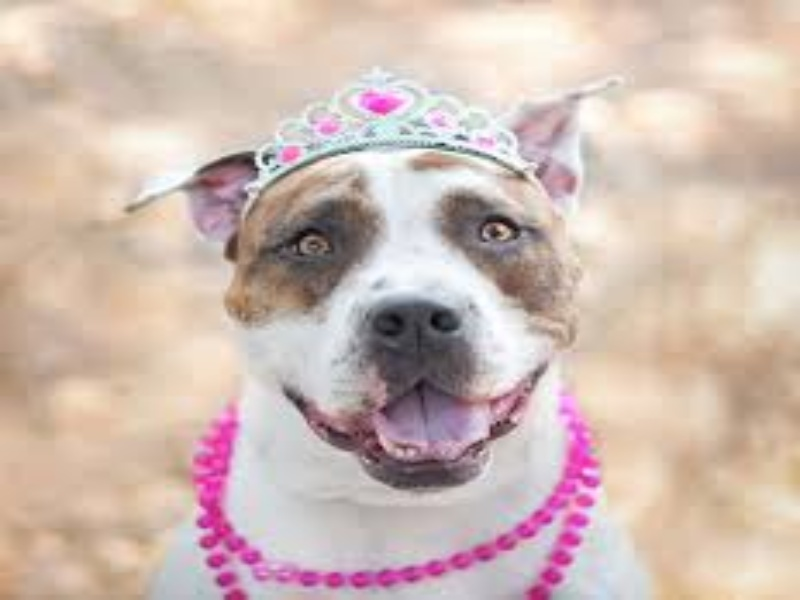dog: (123, 75, 647, 600)
